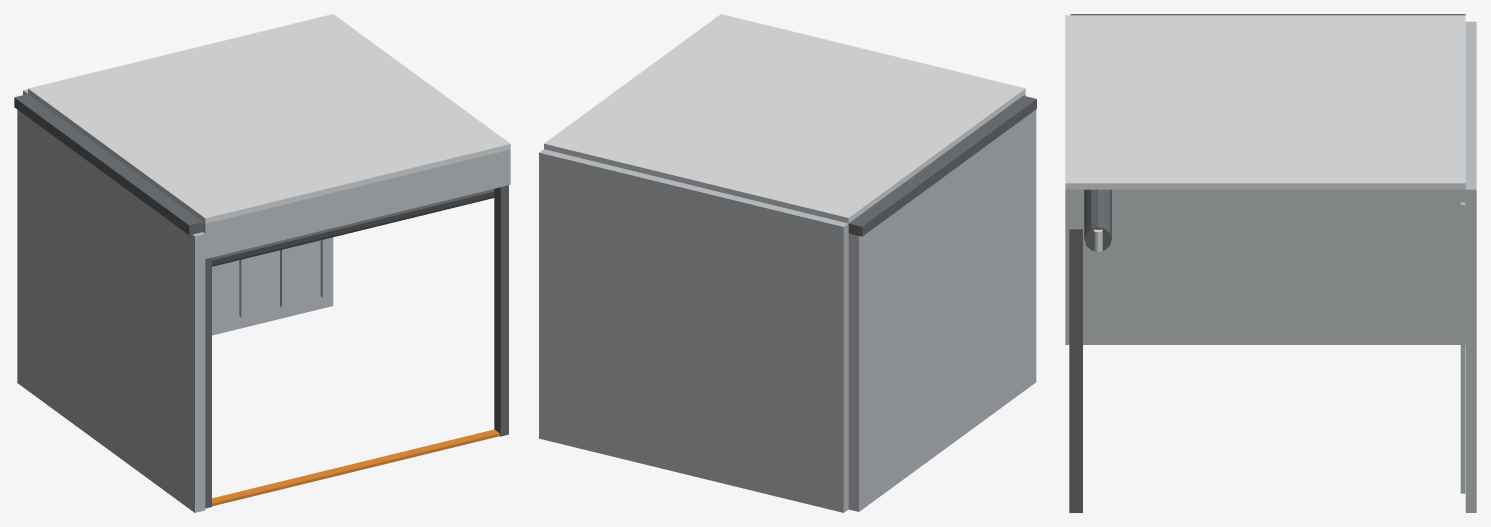
The model's file is self-storage-facility-and-loading-bay-self-storage-fac-ba9e21b3__34698.glb.
The picture shows the model from 3 angles, left to right: view 1: azimuth 30°, elevation 25°; view 2: azimuth 150°, elevation 25°; view 3: azimuth 270°, elevation 25°; orthographic projection. The views are drawn at different scales.
Parts seen in each view (by area): view 1: self-storage-facility-and-loading-bay-storage-unit-open-empt (×4); view 2: self-storage-facility-and-loading-bay-storage-unit-open-empt (×3); view 3: self-storage-facility-and-loading-bay-storage-unit-open-empt (×3).
Part boxes in pixels (bbox=[...]): self-storage-facility-and-loading-bay-storage-unit-open-empt (×4): bbox=[14, 14, 510, 512]; self-storage-facility-and-loading-bay-storage-unit-open-empt (×3): bbox=[539, 14, 1036, 512]; self-storage-facility-and-loading-bay-storage-unit-open-empt (×3): bbox=[1065, 14, 1476, 512].
Size of the model in its own units: 3.04 by 2.65 by 3.
